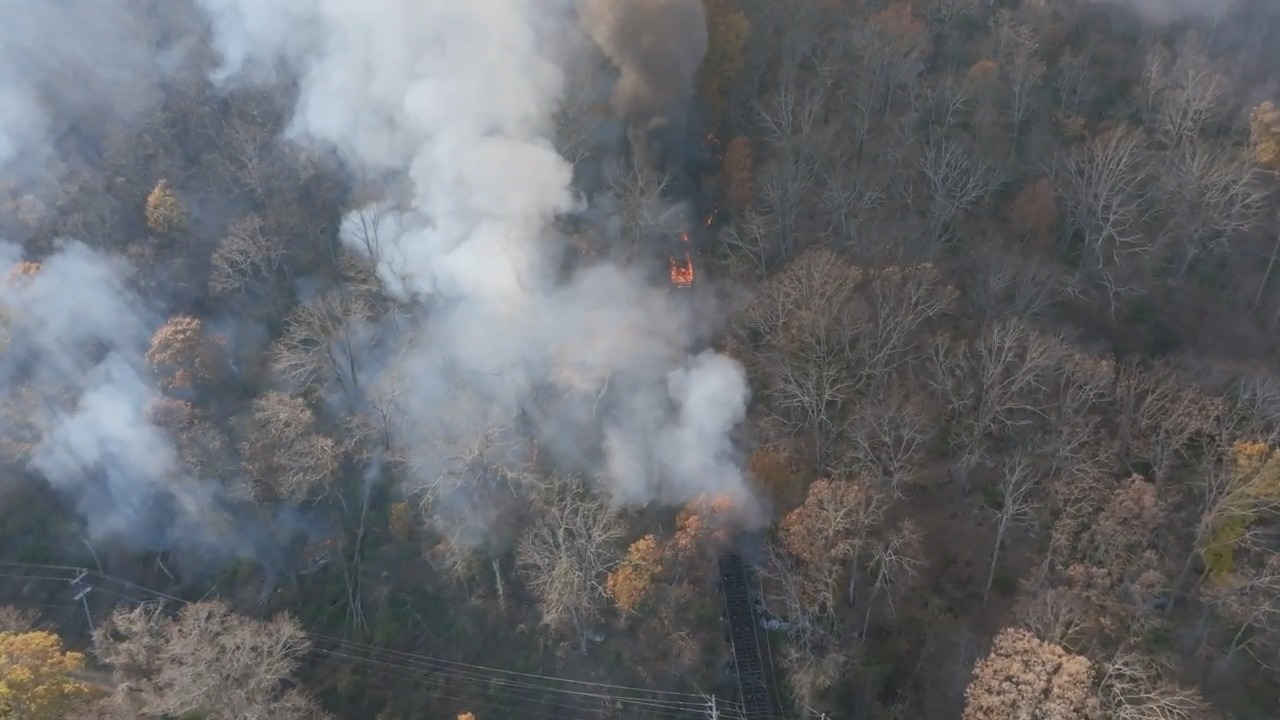fire: (670, 253, 694, 287), (703, 208, 717, 227), (705, 133, 720, 147), (678, 231, 689, 243)
smoke: (204, 0, 750, 503), (0, 242, 249, 555), (0, 0, 193, 191), (578, 0, 707, 123), (1091, 0, 1240, 22)
